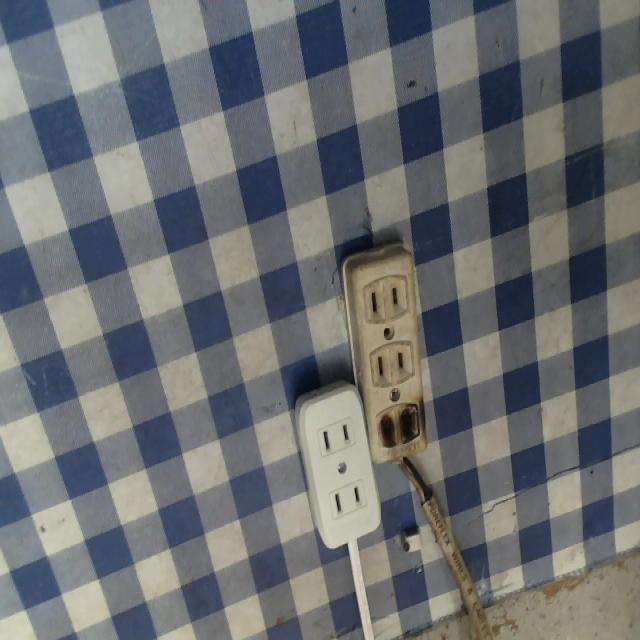-: (366, 398, 431, 462)
